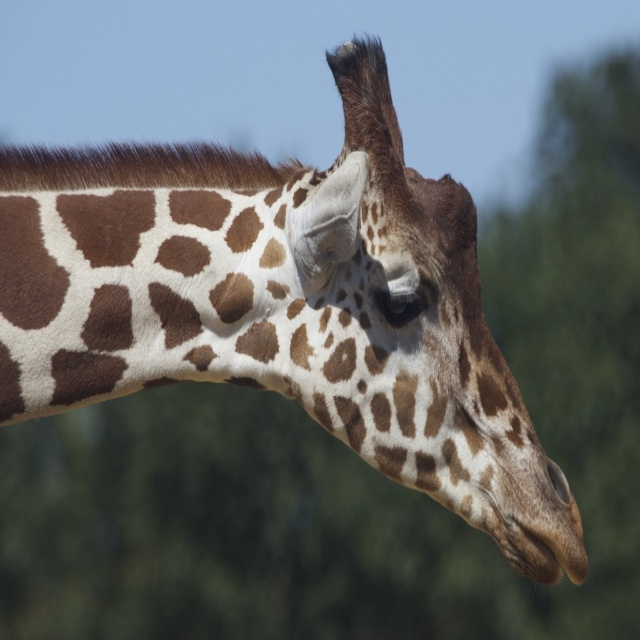Giraffe: (7, 29, 588, 590)
